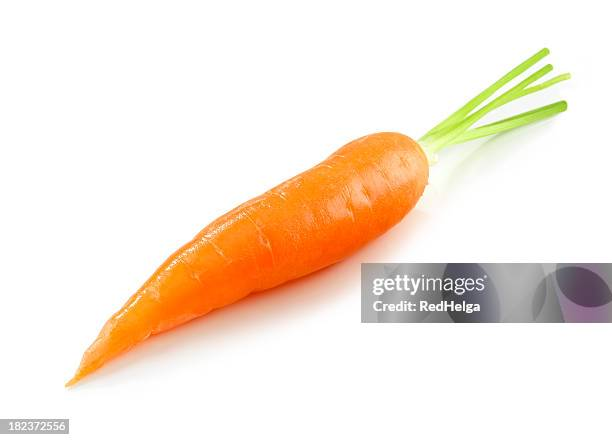carrot: (63, 45, 585, 391)
